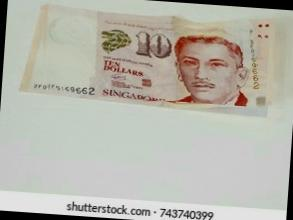10SingaporeDollar: (33, 7, 270, 108)
